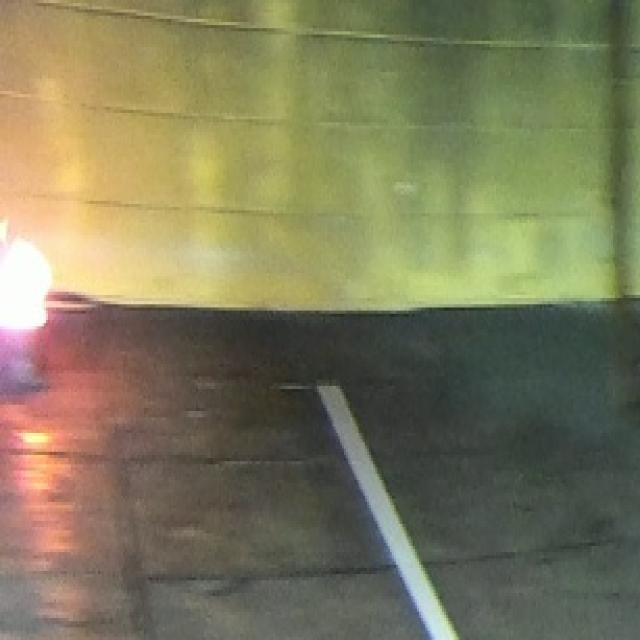Fire: (0, 216, 52, 332)
